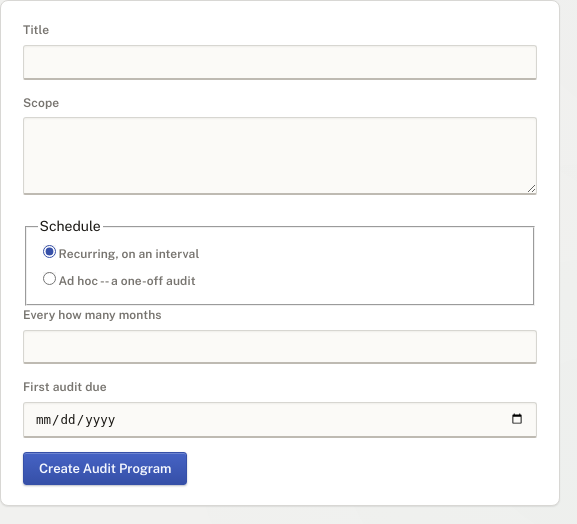
AuditProgramForm › shows the interval field by default and hides it for an ad hoc program
Expected: the number field labelled "Every how many months" is shown, [23, 330, 537, 364]
Click the radio button labelled "Ad hoc -- a one-off audit" at (49, 278), box [42, 272, 56, 285]
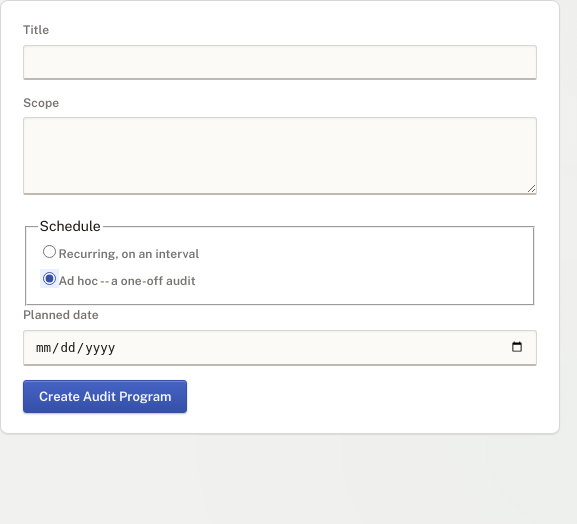
Now the label labelled "Every how many months" is gone
